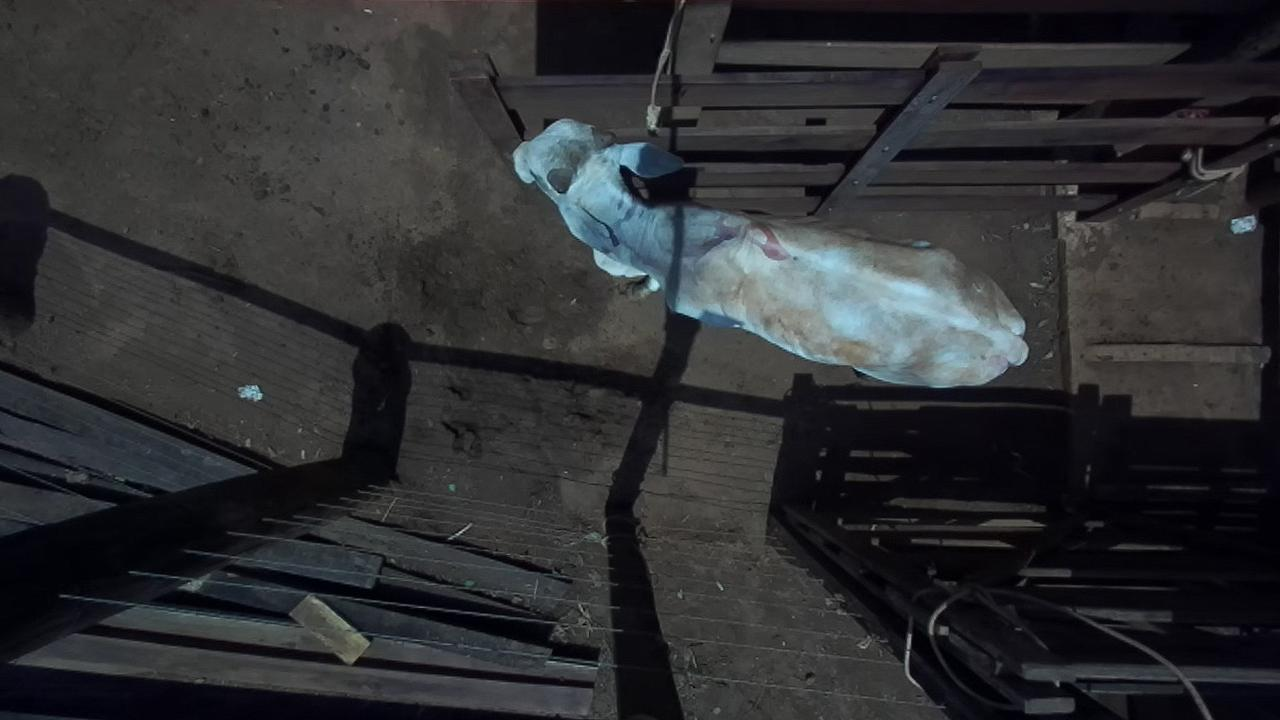cattle: (510, 115, 1030, 389)
